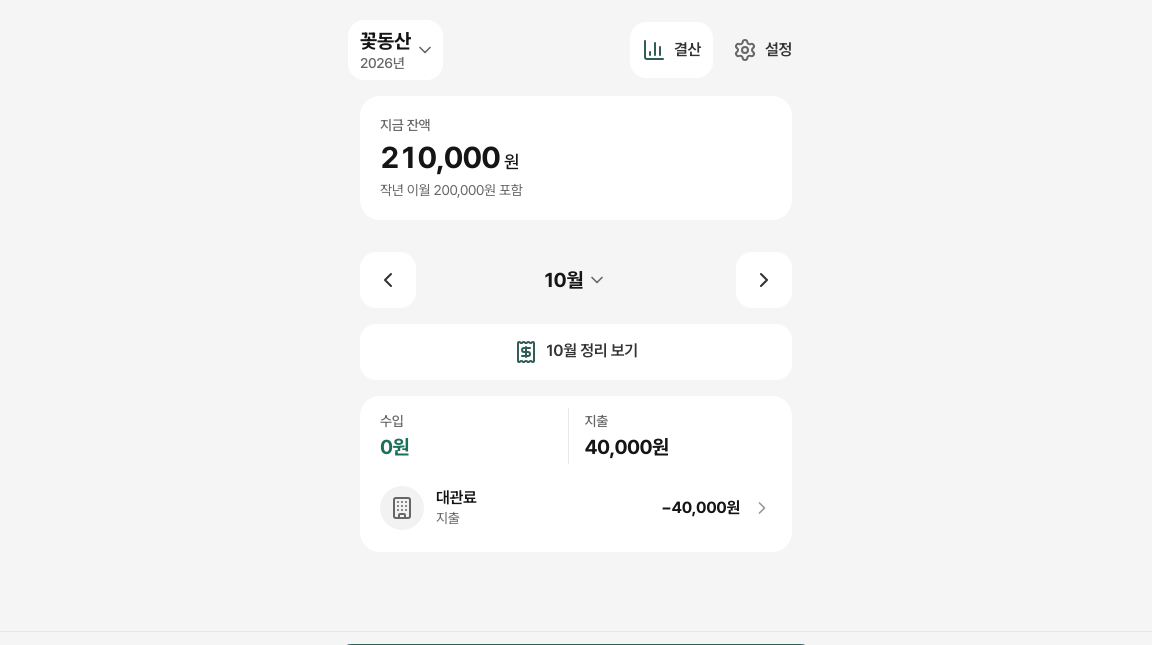
SPEC-002 기록 파일 보내기·불러오기 › 설정 맨 위에 [기록 파일 보내기] [기록 파일 불러오기] 가 있다 (서버 주소 없는 빌드)
Click the button "설정": (762, 50) [721,22,804,78]
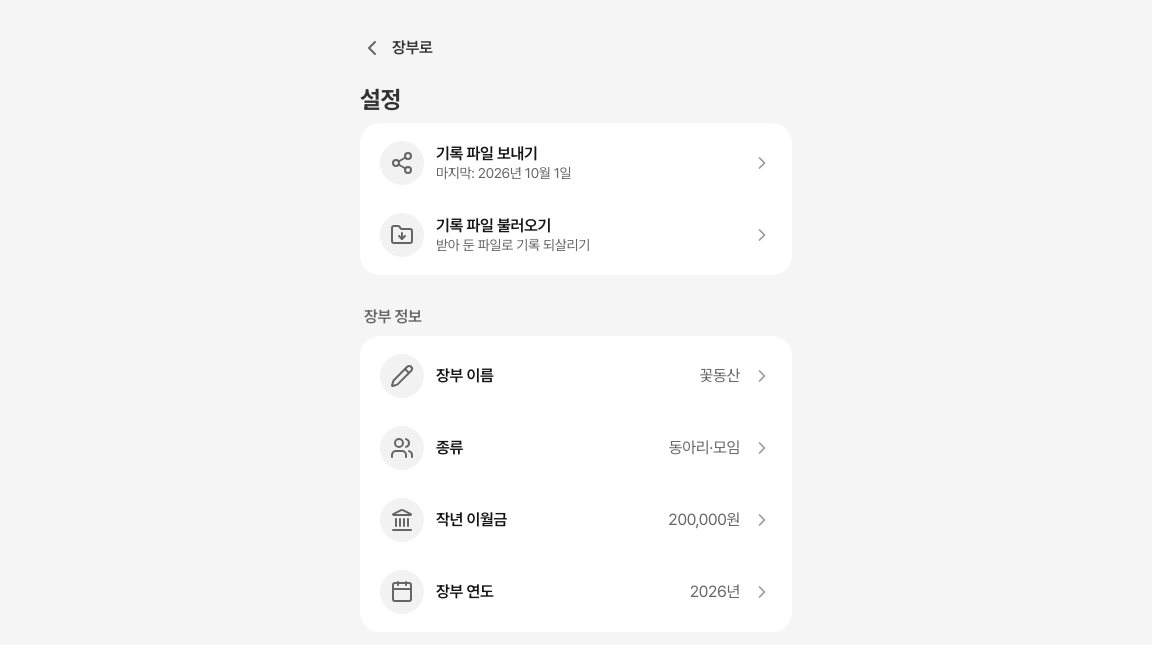
Expected: the button "기록 파일 보내기 마지막: 2026년 10월 1일" is shown, [360,127,792,199]
Expected: the button "기록 파일 불러오기 받아 둔 파일로 기록 되살리기" is shown, [360,199,792,271]
